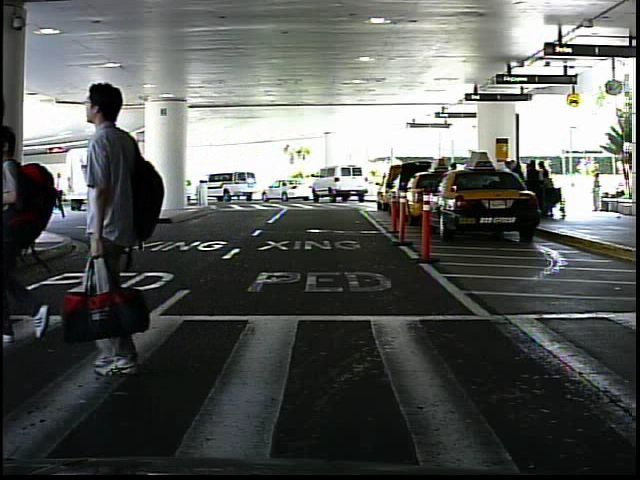person: (73, 67, 178, 384), (51, 171, 70, 221), (588, 169, 607, 215)
